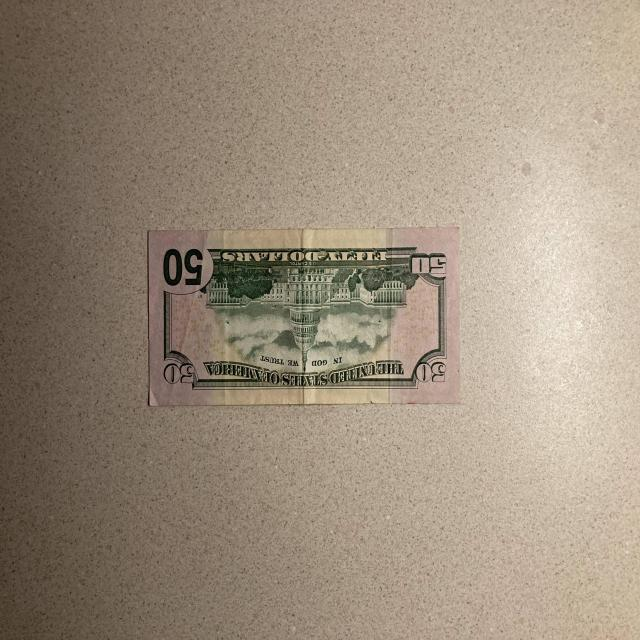fifty: (148, 227, 460, 408)
